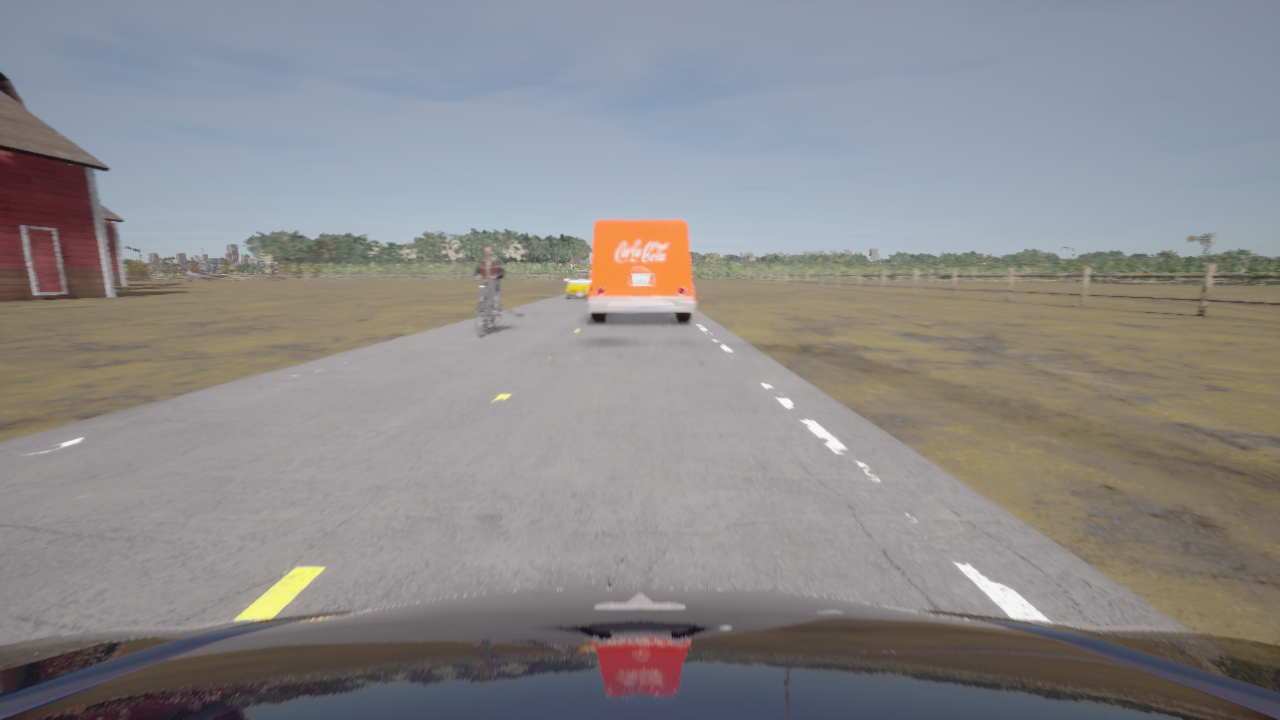cyclist: (0, 588, 1279, 719), (588, 220, 695, 321), (476, 278, 500, 338), (565, 270, 591, 300)
